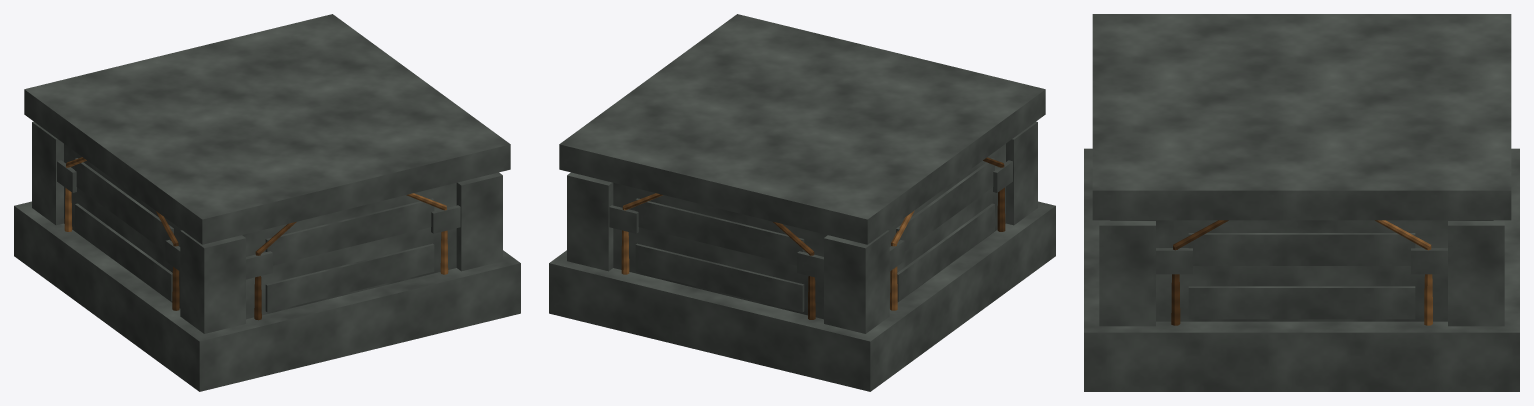
File: rootforged-great-column-plinth.glb
3 renders of one model, left to right at view 1: azimuth 30°, elevation 25°; view 2: azimuth 150°, elevation 25°; view 3: azimuth 270°, elevation 25°, orthographic. The views are drawn at different scales.
Parts seen in each view (by area): view 1: upper-seat, lower-plinth, recessed-core, corner-buttress--1--1, front-relief--1-0, front-relief--1-1, corner-buttress-1--1, side-relief--1-0, side-relief--1-1, corner-buttress--1-1, carved-socket-boss-1--1, carved-socket-boss--1--1 (+4 smaller); view 2: upper-seat, lower-plinth, recessed-core, corner-buttress--1-1, front-relief-1-0, front-relief-1-1, corner-buttress-1-1, side-relief--1-0, side-relief--1-1, corner-buttress--1--1, carved-socket-boss-1-1, front-root-inlay-1--1 (+5 smaller); view 3: upper-seat, lower-plinth, recessed-core, side-relief-1-0, side-relief-1-1, corner-buttress-1--1, corner-buttress-1-1, carved-side-boss-1-1, carved-side-boss-1--1, side-root-inlay-1-1, side-root-inlay-1--1.
Boxes of the visible parts, x1=… form: upper-seat: x1=24, y1=14, x2=510, y2=244; lower-plinth: x1=14, y1=201, x2=520, y2=391; recessed-core: x1=64, y1=144, x2=456, y2=319; corner-buttress--1--1: x1=180, y1=230, x2=245, y2=333; front-relief--1-0: x1=265, y1=243, x2=434, y2=312; front-relief--1-1: x1=265, y1=198, x2=434, y2=265; corner-buttress-1--1: x1=456, y1=172, x2=502, y2=271; side-relief--1-0: x1=75, y1=203, x2=172, y2=301; side-relief--1-1: x1=75, y1=158, x2=173, y2=251; corner-buttress--1-1: x1=32, y1=121, x2=63, y2=225; carved-socket-boss-1--1: x1=431, y1=205, x2=460, y2=233; carved-socket-boss--1--1: x1=246, y1=251, x2=272, y2=279; upper-seat: x1=559, y1=14, x2=1045, y2=244; lower-plinth: x1=549, y1=201, x2=1055, y2=391; recessed-core: x1=613, y1=144, x2=1005, y2=319; corner-buttress--1-1: x1=824, y1=230, x2=889, y2=333; front-relief-1-0: x1=635, y1=243, x2=804, y2=312; front-relief-1-1: x1=635, y1=198, x2=804, y2=265; corner-buttress-1-1: x1=567, y1=172, x2=613, y2=271; side-relief--1-0: x1=897, y1=203, x2=994, y2=301; side-relief--1-1: x1=896, y1=158, x2=994, y2=251; corner-buttress--1--1: x1=1006, y1=121, x2=1037, y2=225; carved-socket-boss-1-1: x1=609, y1=205, x2=638, y2=233; front-root-inlay-1--1: x1=773, y1=222, x2=815, y2=319; upper-seat: x1=1092, y1=14, x2=1511, y2=220; lower-plinth: x1=1084, y1=148, x2=1519, y2=391; recessed-core: x1=1110, y1=220, x2=1493, y2=321; side-relief-1-0: x1=1188, y1=286, x2=1415, y2=319; side-relief-1-1: x1=1188, y1=233, x2=1415, y2=265; corner-buttress-1--1: x1=1099, y1=220, x2=1155, y2=326; corner-buttress-1-1: x1=1448, y1=220, x2=1504, y2=326; carved-side-boss-1-1: x1=1411, y1=248, x2=1447, y2=274; carved-side-boss-1--1: x1=1156, y1=248, x2=1192, y2=274; side-root-inlay-1-1: x1=1375, y1=220, x2=1432, y2=325; side-root-inlay-1--1: x1=1171, y1=220, x2=1228, y2=325.
Bounding box in the file's own units: 4 × 2 × 4.
3 materials, 3 textured.
